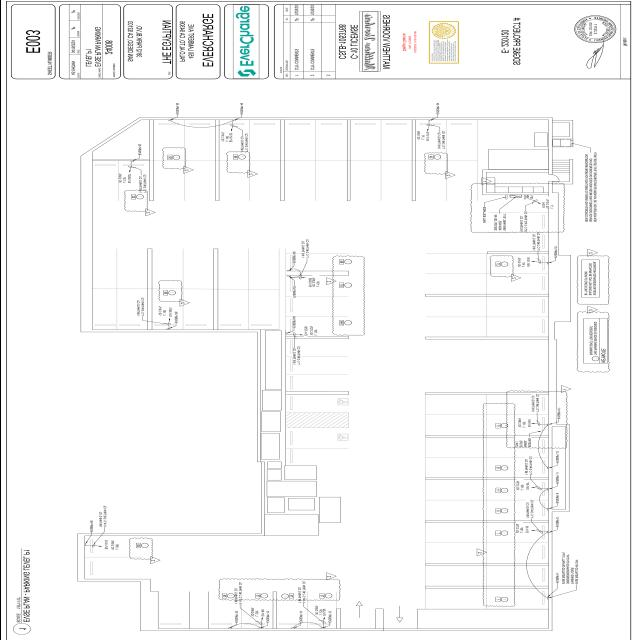evse: (542, 501, 552, 513), (542, 460, 550, 472), (542, 591, 550, 601), (542, 485, 550, 495), (542, 527, 548, 537), (544, 420, 550, 430), (313, 626, 327, 630), (284, 626, 296, 630), (251, 626, 263, 630), (222, 626, 234, 630)
gfi: (524, 194, 528, 198)
panel: (508, 194, 522, 198)
